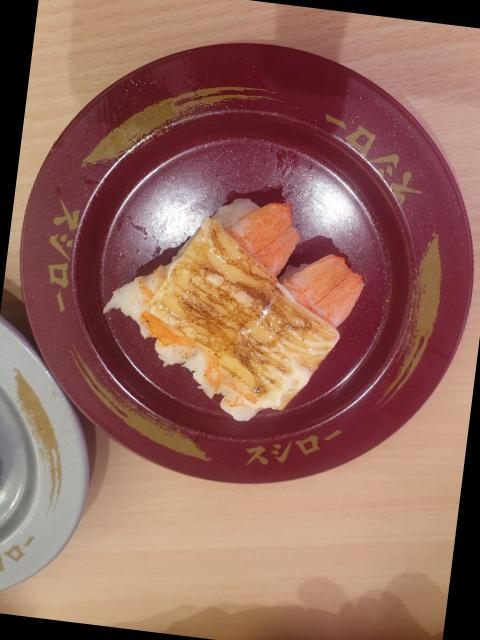janred: (19, 47, 480, 457)
janwhite: (0, 321, 94, 620)
